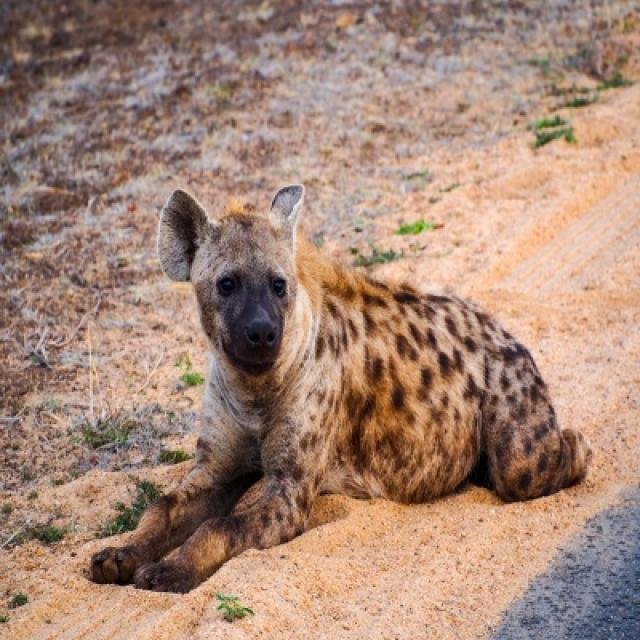hyena: (88, 186, 589, 595)
